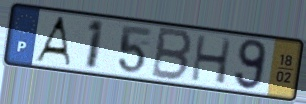1: (85, 18, 105, 73)
5: (118, 24, 155, 75)
9: (232, 38, 269, 92)
A: (32, 15, 73, 68)
B: (148, 25, 195, 84)
H: (189, 33, 235, 86)
